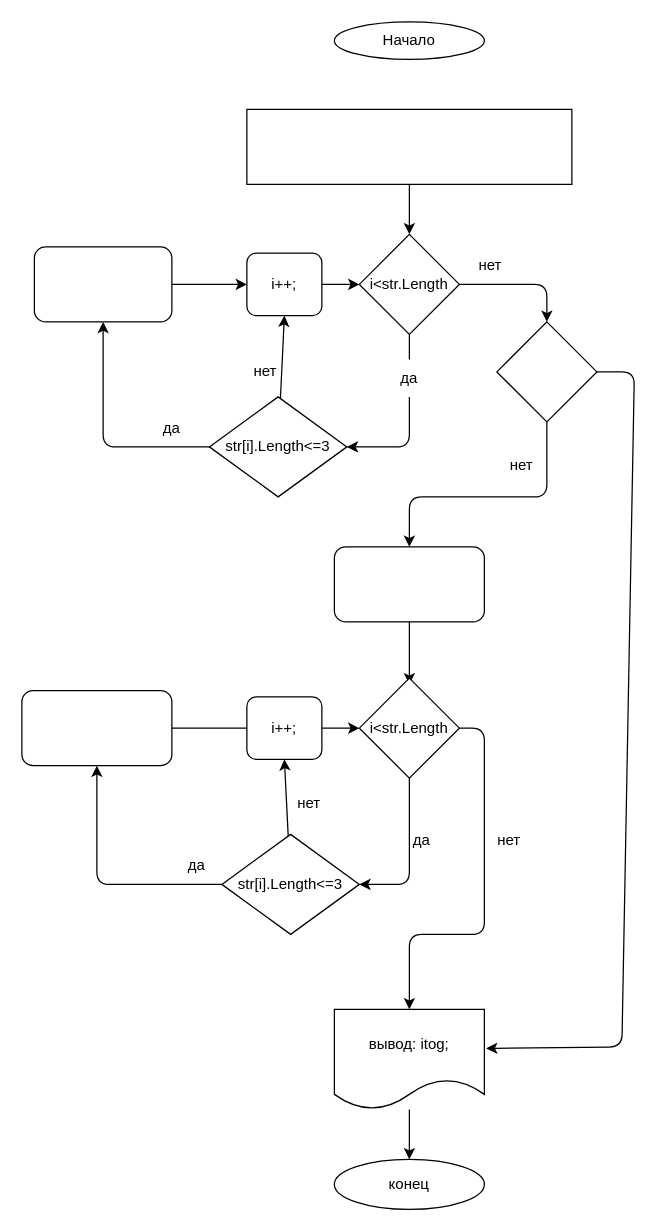
The diagram is 666 pixels wide and 1231 high, and some of its shapes have lost their labels. Each missing label, with the centre of its shape:
count+=1;: the point at 102,284
count==0: the point at 546,371
itog[count] = str[i]; count++: the point at 96,727
string [] str = ["hello,"2","world", ":-)"; i=0; count =0;: the point at 409,146
string[] itog [count]; i=0; count =0;: the point at 408,584
